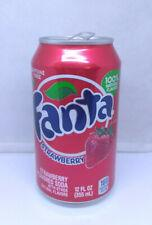metal: (32, 33, 121, 202)
